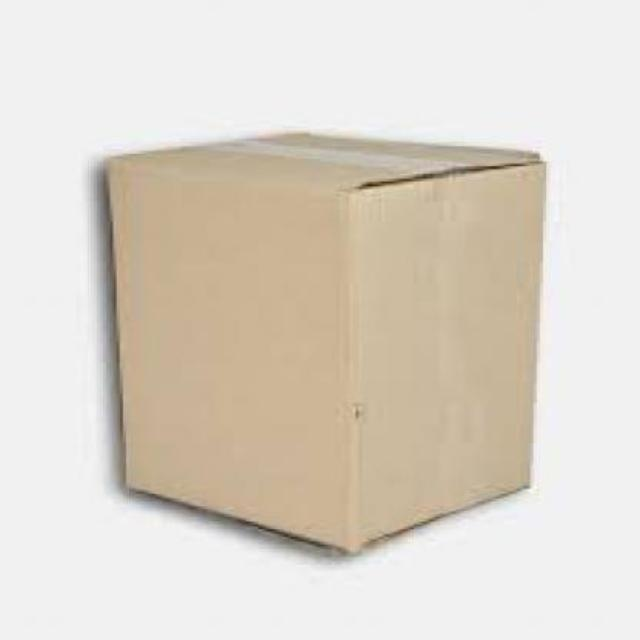cardboard_box: (86, 105, 562, 565)
